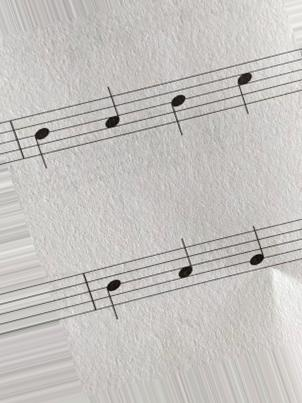A: (93, 83, 124, 149), (172, 233, 196, 298)
B: (29, 109, 58, 175), (167, 77, 191, 139), (103, 263, 124, 328)
G: (237, 220, 269, 279)
HC: (233, 53, 257, 126)
